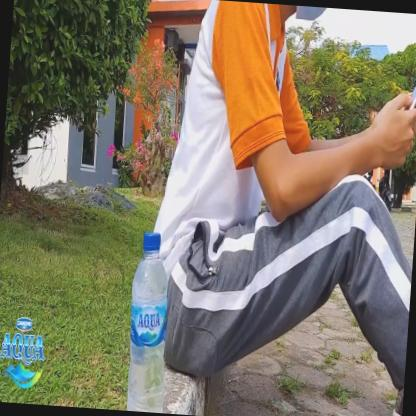plastic_bottles: (122, 230, 176, 413)
